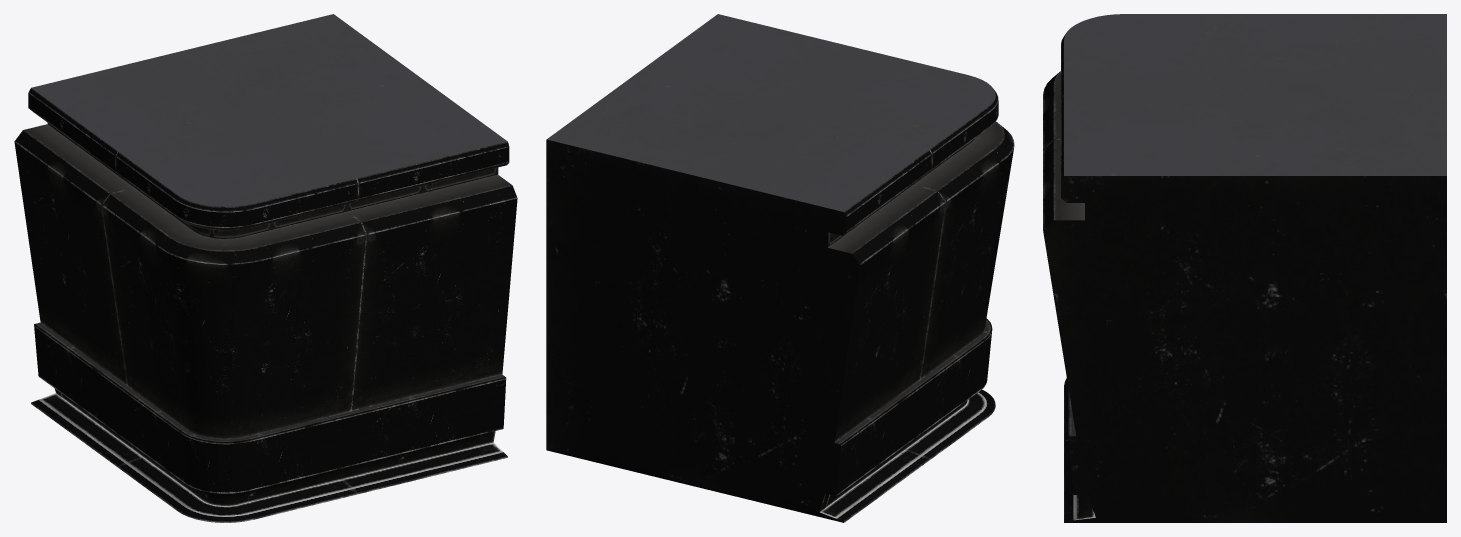
File: SM_Wall_Corner_Floor_A.FBX
3 renders of one model, left to right at view 1: azimuth 30°, elevation 25°; view 2: azimuth 150°, elevation 25°; view 3: azimuth 270°, elevation 25°, orthographic. The views are drawn at different scales.
Visible parts, largest first — view 1: SM_Wall_Corner_Floor_A; view 2: SM_Wall_Corner_Floor_A; view 3: SM_Wall_Corner_Floor_A.
Part boxes in pixels (left/top/right/bottom): SM_Wall_Corner_Floor_A: left=14, top=14, right=517, bottom=522; SM_Wall_Corner_Floor_A: left=546, top=14, right=1014, bottom=522; SM_Wall_Corner_Floor_A: left=1043, top=14, right=1446, bottom=522.
Size of the model in its own units: 423 by 400 by 422.
2 materials, 2 textured.
